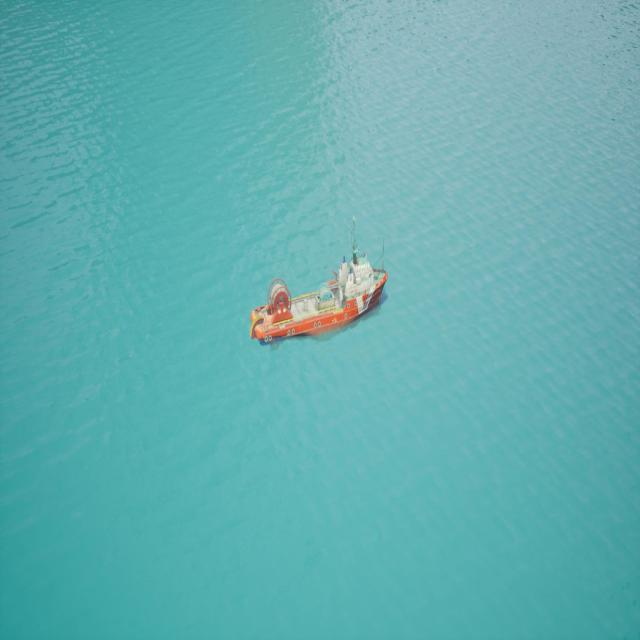tug boat: (251, 251, 393, 344)
